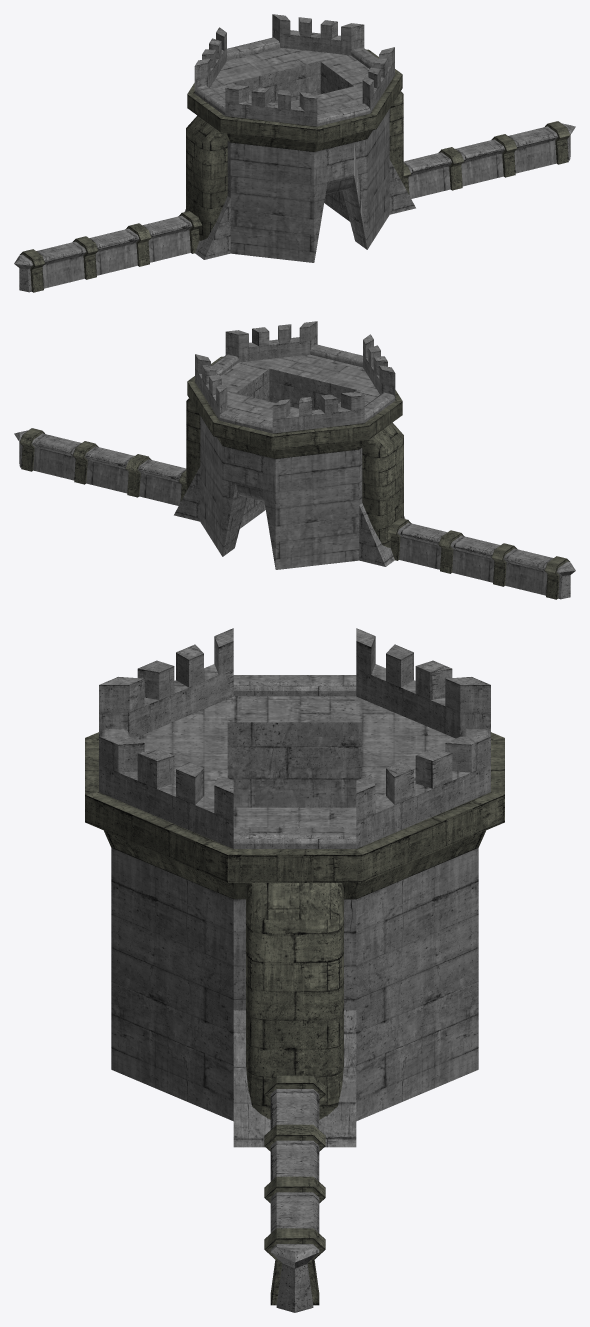
Rendered from DF_Vestige_Central_Tower.fbx.
The picture shows the model from 3 angles, top to bottom: view 1: azimuth 30°, elevation 25°; view 2: azimuth 150°, elevation 25°; view 3: azimuth 270°, elevation 25°; orthographic projection. The views are drawn at different scales.
Visible parts, largest first — view 1: DF_Vestige_Central_Tower; view 2: DF_Vestige_Central_Tower; view 3: DF_Vestige_Central_Tower.
Part boxes in pixels (x1,y1,x2,y2): DF_Vestige_Central_Tower: [14, 14, 575, 292]; DF_Vestige_Central_Tower: [14, 321, 575, 599]; DF_Vestige_Central_Tower: [85, 628, 504, 1312].
Bounding box in the file's own units: 4239 × 1200 × 1372.
